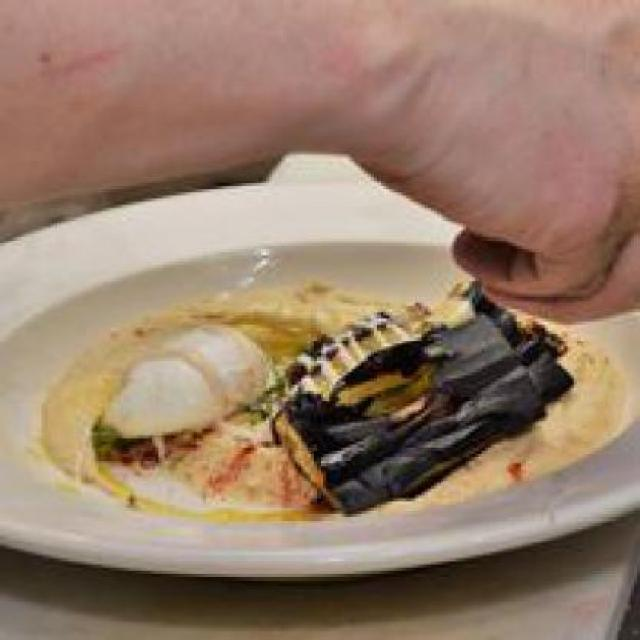eggplant: (292, 278, 536, 510)
hummus: (32, 268, 620, 523)
